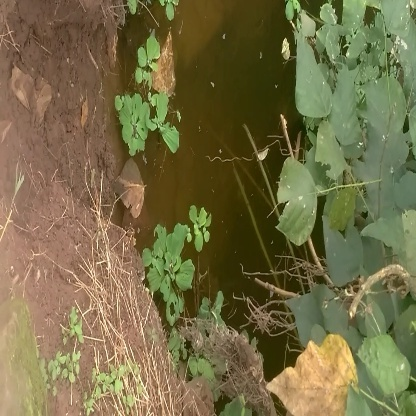leaf: (113, 90, 190, 157)
